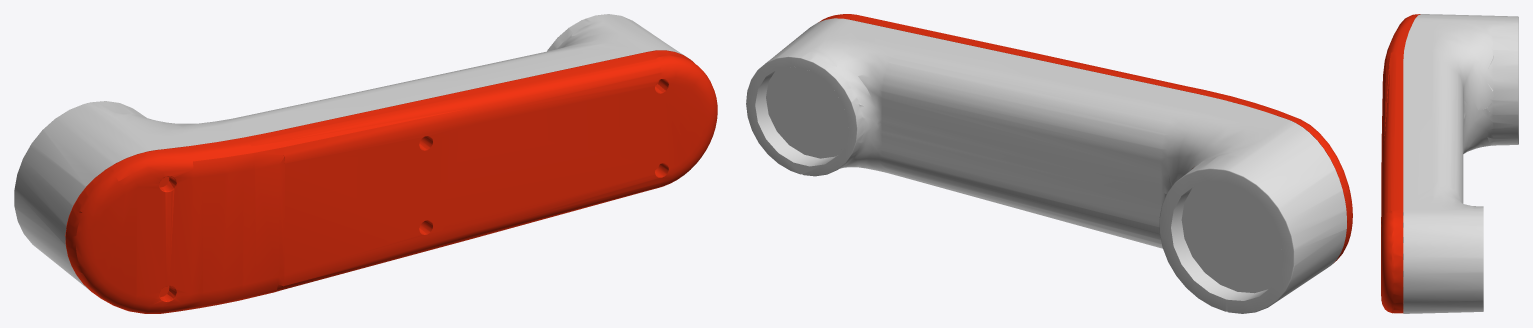
The picture shows the model from 3 angles, left to right: view 1: azimuth 30°, elevation 25°; view 2: azimuth 150°, elevation 25°; view 3: azimuth 270°, elevation 25°; orthographic projection. The views are drawn at different scales.
Visible parts, largest first — view 1: Mesh (×2); view 2: Mesh (×6); view 3: Mesh (×2).
Part boxes in pixels (x1,y1,x2,y2): Mesh (×2): [14, 14, 717, 313]; Mesh (×6): [746, 14, 1352, 313]; Mesh (×2): [1381, 14, 1518, 313].
Bounding box in the file's own units: 309 × 76.14 × 78.29.
